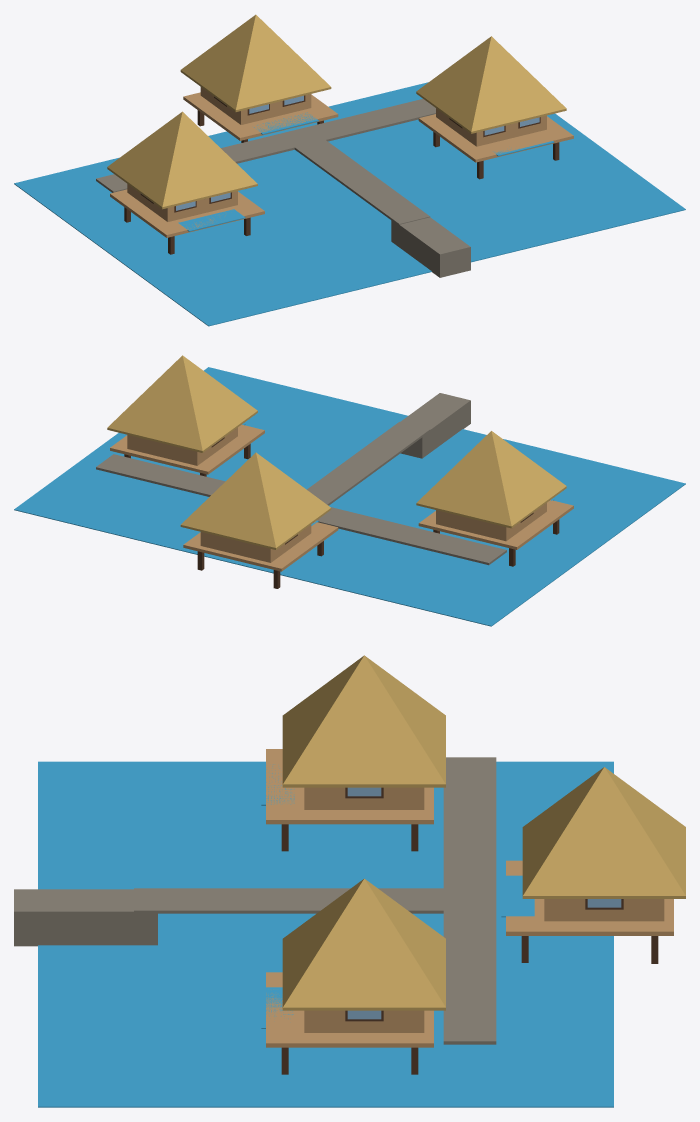
The model's file is fare_polynesien.glb.
3 renders of one model, top to bottom at view 1: azimuth 30°, elevation 25°; view 2: azimuth 150°, elevation 25°; view 3: azimuth 270°, elevation 25°, orthographic. The views are drawn at different scales.
Visible parts, largest first — view 1: fare_polynesien; view 2: fare_polynesien; view 3: fare_polynesien.
Boxes of the visible parts, <box> form: fare_polynesien: <box>14,14,685,326</box>; fare_polynesien: <box>14,355,685,626</box>; fare_polynesien: <box>14,655,685,1107</box>.
Bounding box in the file's own units: 34 × 7.74 × 28.
1 material, 1 textured.
